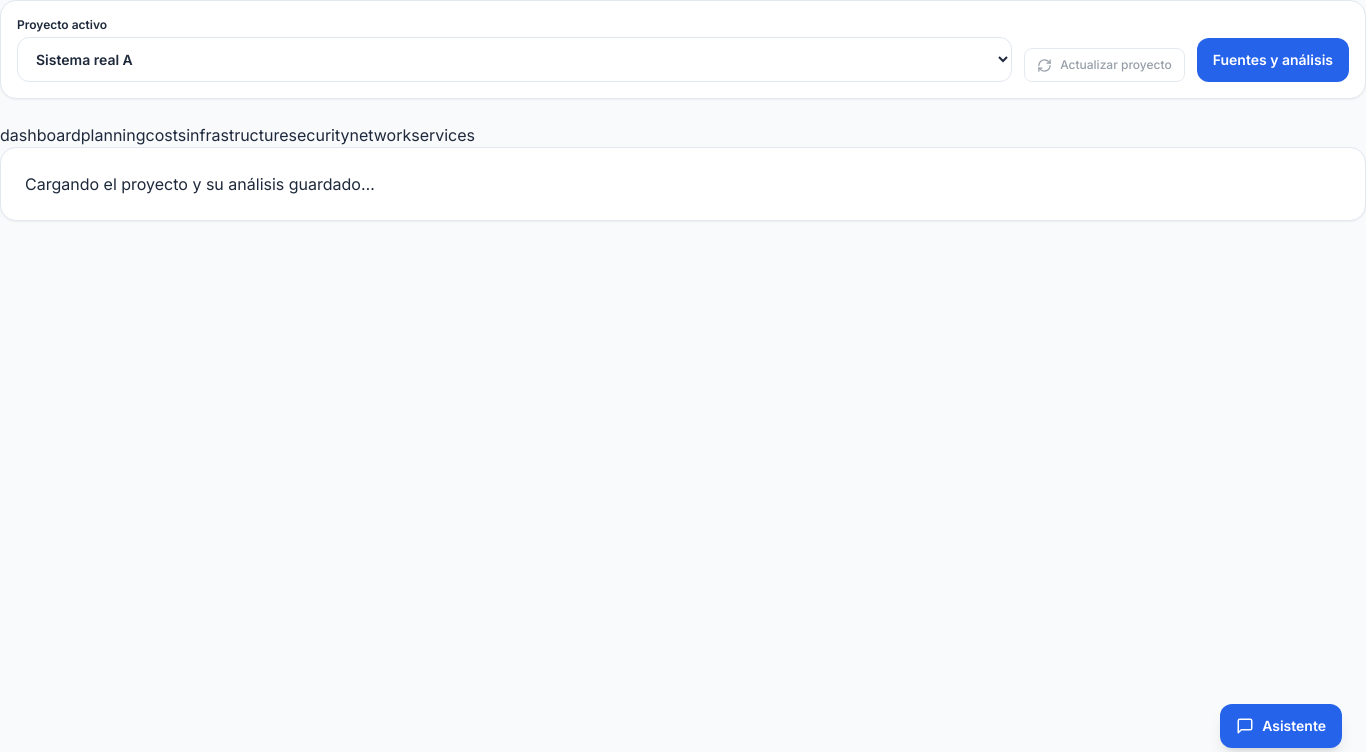
Test case: un proyecto real para toda la aplicación › oculta inmediatamente resultados anteriores y descarta una respuesta tardía al cambiar de proyecto
The width and height of the screenshot is (1366, 752).
Select "Sistema real B" in the dropdown labelled "Proyecto activo" at (515, 60), box [17,37,1012,82]
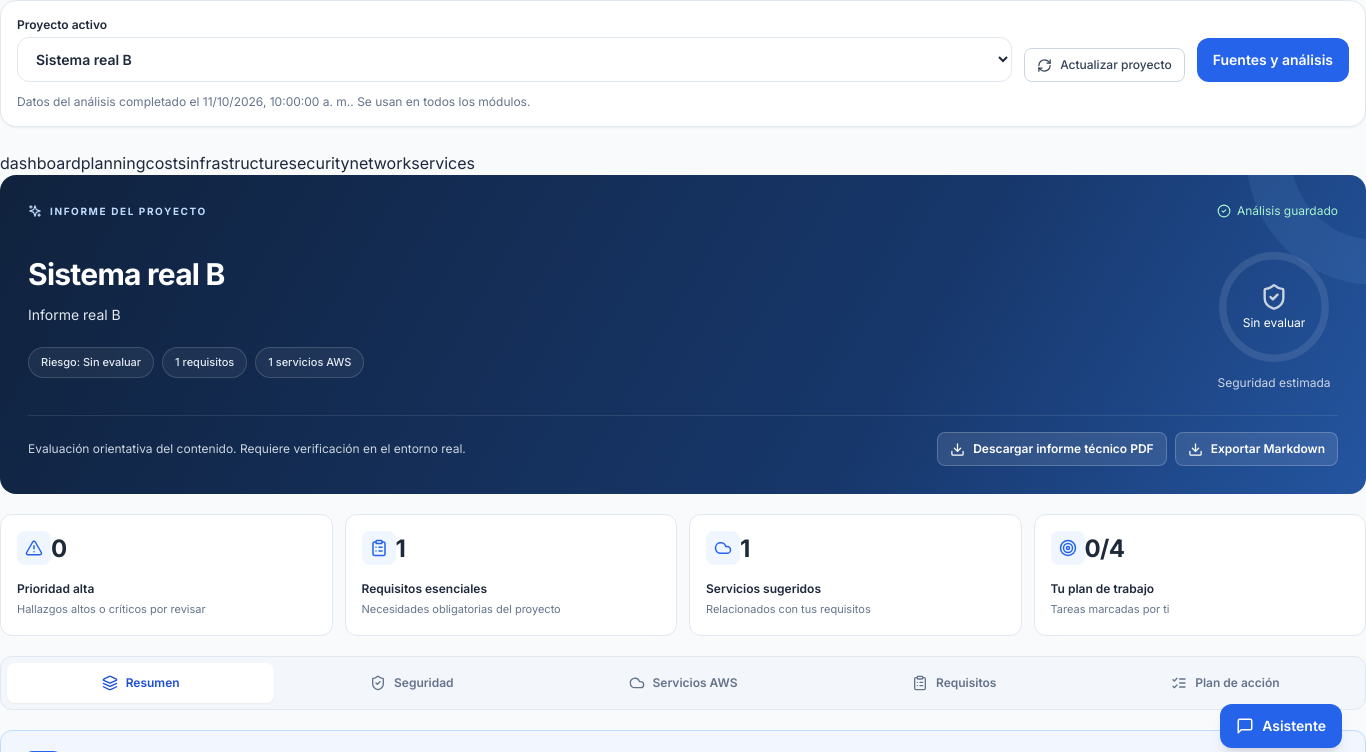
Check: the text "Informe real B" is shown, box [28,306,121,323]
